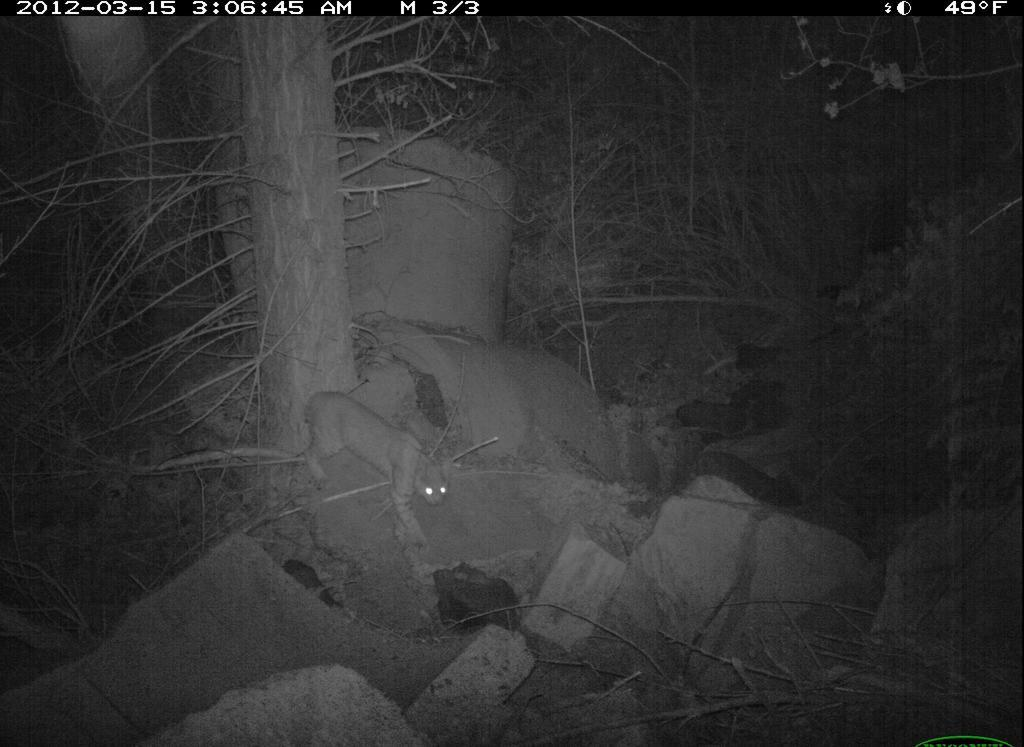bobcat: (283, 378, 465, 574)
